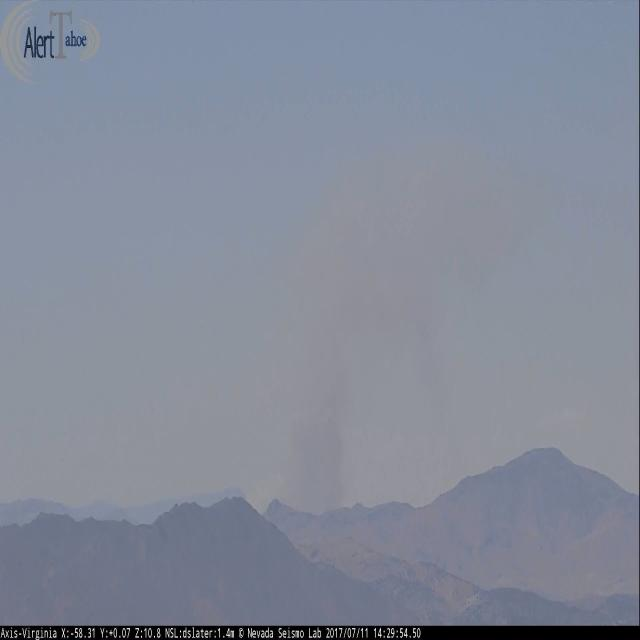smoke: (285, 150, 562, 507)
